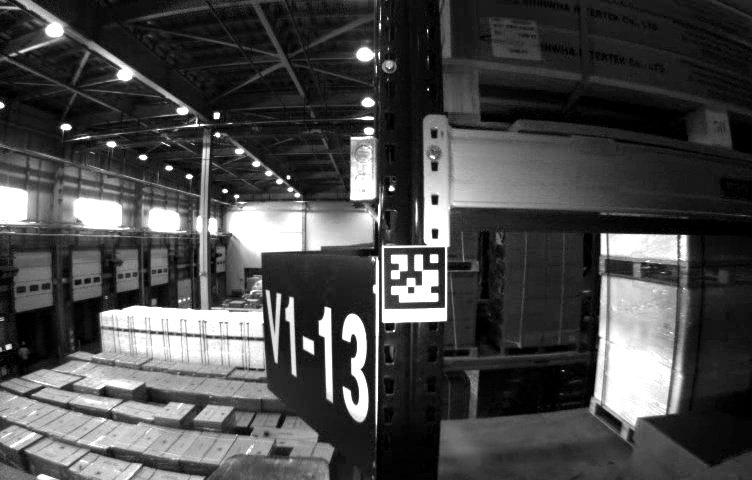True Barcode: (489, 16, 540, 61)
